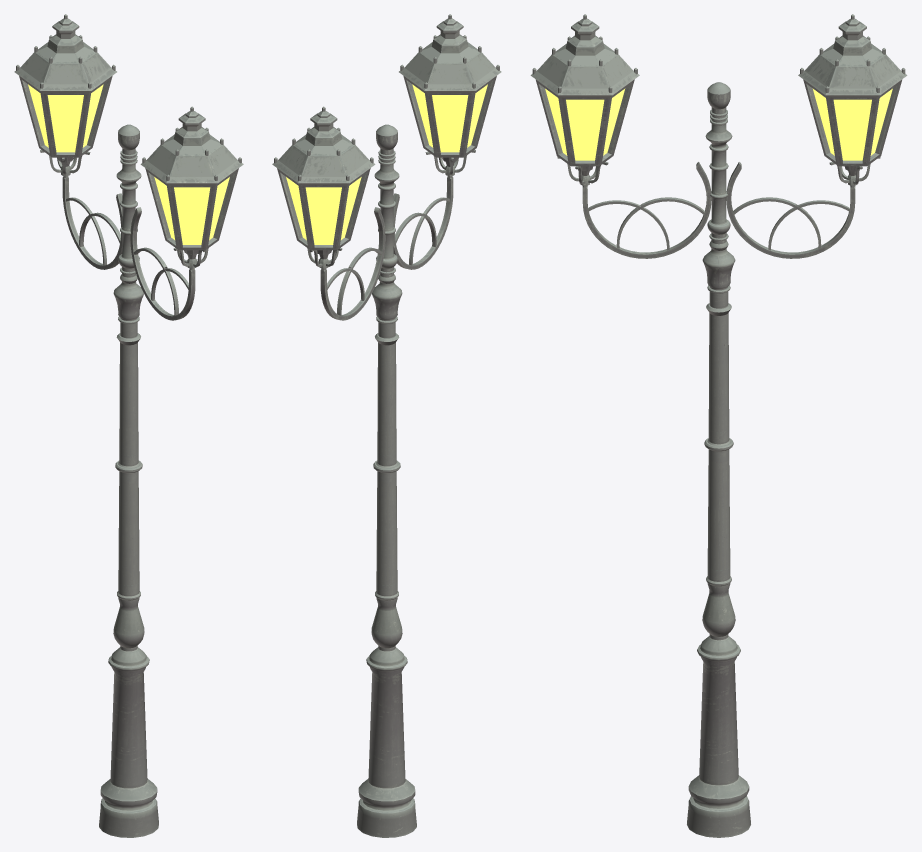
3 renders of one model, left to right at view 1: azimuth 30°, elevation 25°; view 2: azimuth 150°, elevation 25°; view 3: azimuth 270°, elevation 25°, orthographic. The views are drawn at different scales.
Visible parts, largest first — view 1: Lamps_arms_low, Lampadaire_low; view 2: Lamps_arms_low, Lampadaire_low; view 3: Lamps_arms_low, Lampadaire_low.
Part boxes in pixels (box(x1,y1,x2,y2)): Lamps_arms_low: box(14, 14, 243, 320); Lampadaire_low: box(99, 124, 158, 837); Lamps_arms_low: box(272, 14, 501, 320); Lampadaire_low: box(357, 124, 416, 837); Lamps_arms_low: box(530, 14, 907, 258); Lampadaire_low: box(687, 82, 750, 837).
Size of the model in its own units: 1.47 by 13.88 by 5.86.
2 materials, 2 textured.
